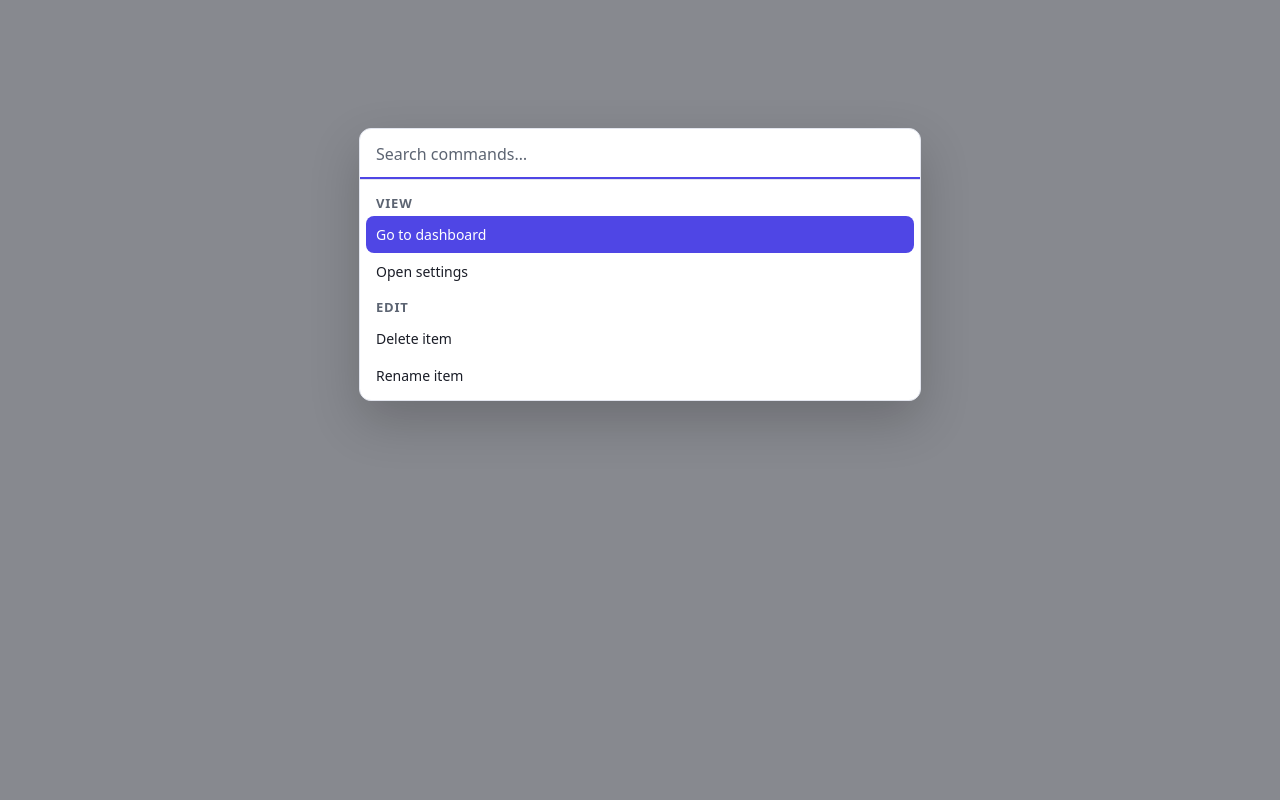
Test: CommandPalette › uses a custom filter
Type "ren" into the dropdown.
click(656, 154); type("ren")  # box [360, 129, 952, 180]
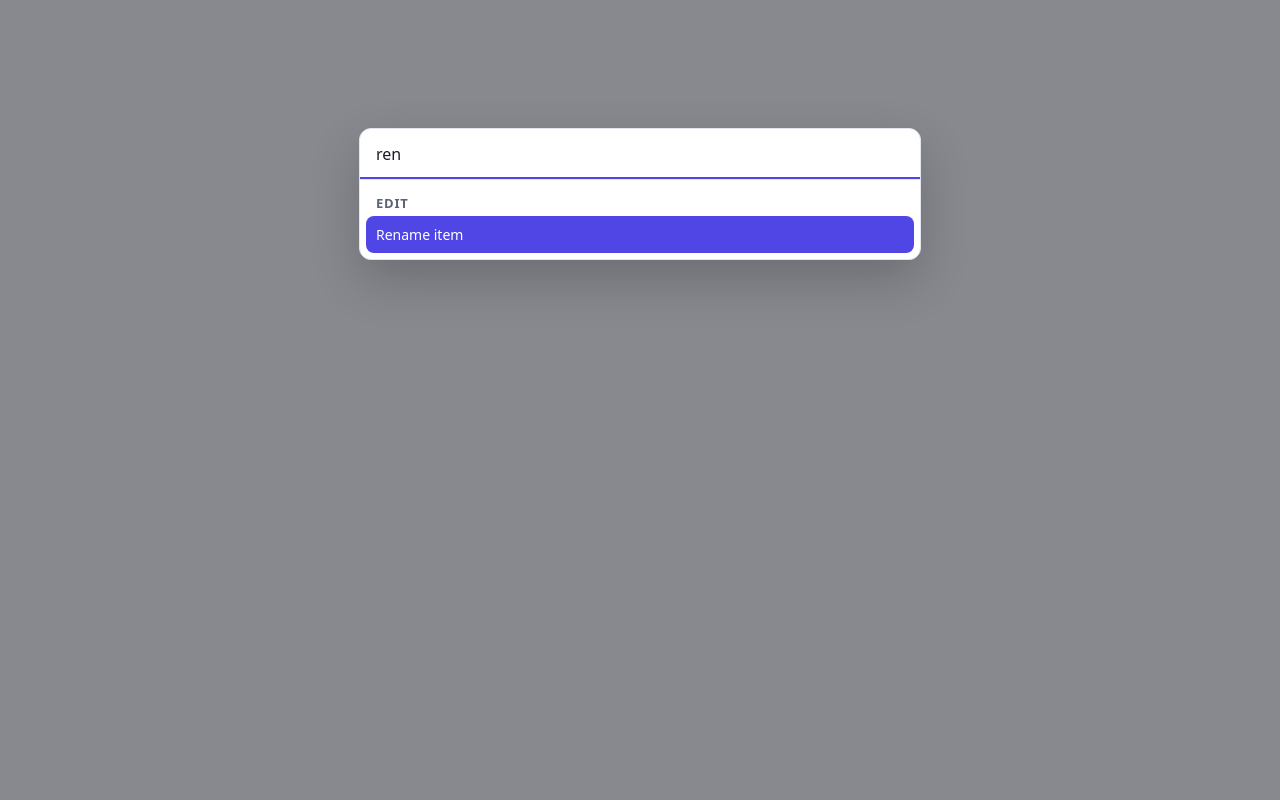
Expected: the option "Rename item" is shown, [366, 216, 914, 253]
Result: the option "dashboard" is gone
